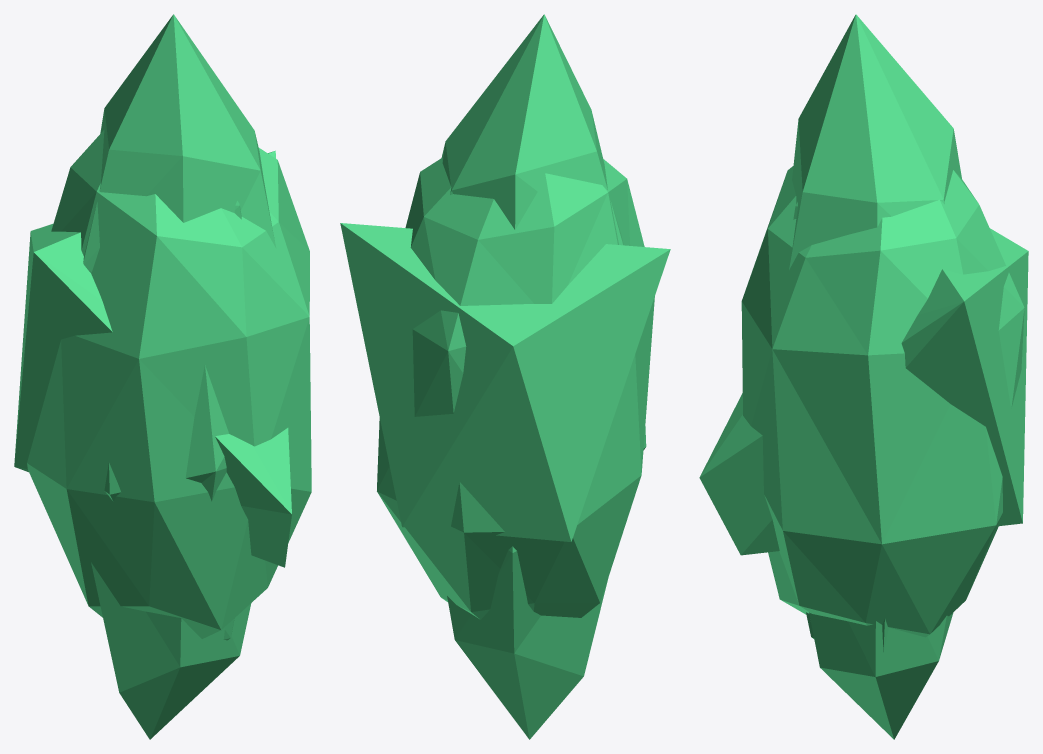
File: crystals.glb
3 views of the same model, side by side, from view 1: azimuth 30°, elevation 25°; view 2: azimuth 150°, elevation 25°; view 3: azimuth 270°, elevation 25° (orthographic). The views are drawn at different scales.
Parts seen in each view (by area): view 1: crystal_5, crystal_3, shard, crystal_2; view 2: shard, crystal_5, crystal_3; view 3: crystal_5, crystal_3, shard.
Boxes of the visible parts, x1=… form: crystal_5: x1=27, y1=130, x2=311, y2=638; crystal_3: x1=83, y1=14, x2=276, y2=739; shard: x1=14, y1=150, x2=291, y2=567; crystal_2: x1=104, y1=365, x2=228, y2=501; shard: x1=340, y1=223, x2=670, y2=541; crystal_5: x1=377, y1=157, x2=654, y2=619; crystal_3: x1=441, y1=14, x2=623, y2=739; crystal_5: x1=741, y1=166, x2=1024, y2=637; crystal_3: x1=789, y1=14, x2=961, y2=739; shard: x1=699, y1=228, x2=1028, y2=555.
Bounding box in the file's own units: 1.83 × 4.41 × 1.81.
